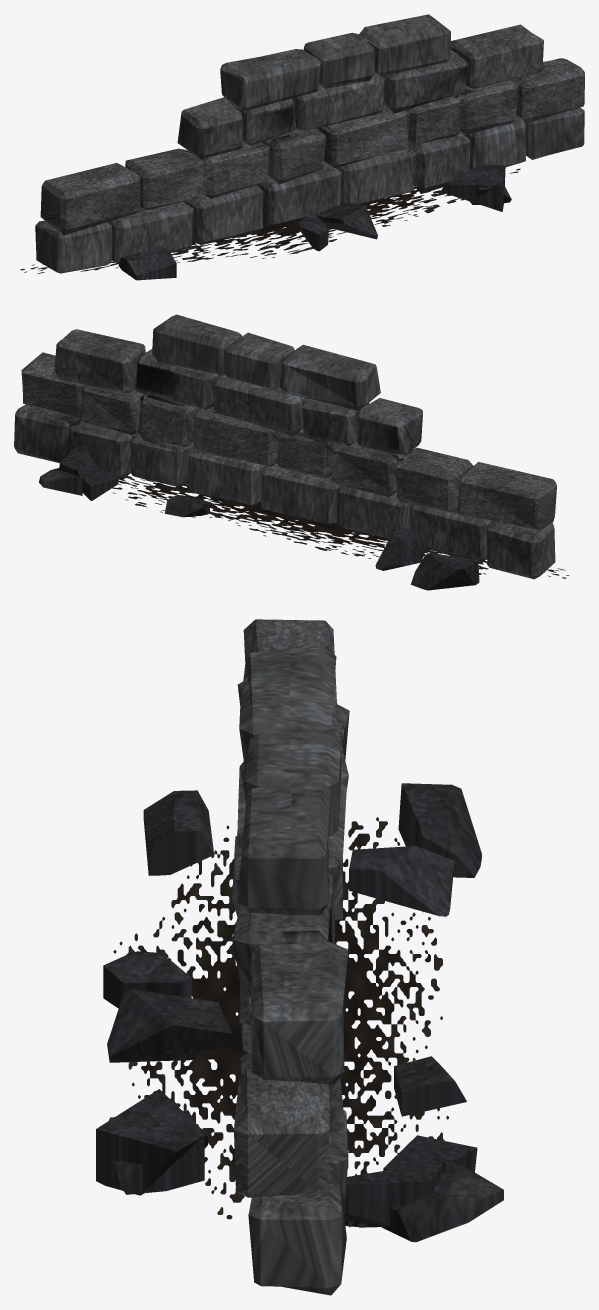
The model's file is ruined_wall.glb.
3 views of the same model, one above another, from view 1: azimuth 30°, elevation 25°; view 2: azimuth 150°, elevation 25°; view 3: azimuth 270°, elevation 25° (orthographic). The views are drawn at different scales.
Parts seen in each view (by area): view 1: ruined_wall; view 2: ruined_wall; view 3: ruined_wall.
Boxes of the visible parts, <box> form: ruined_wall: <box>20,14,584,280</box>; ruined_wall: <box>14,314,569,590</box>; ruined_wall: <box>96,619,503,1295</box>.
Bounding box in the file's own units: 3.6 × 1.01 × 1.14.
2 materials, 2 textured.
